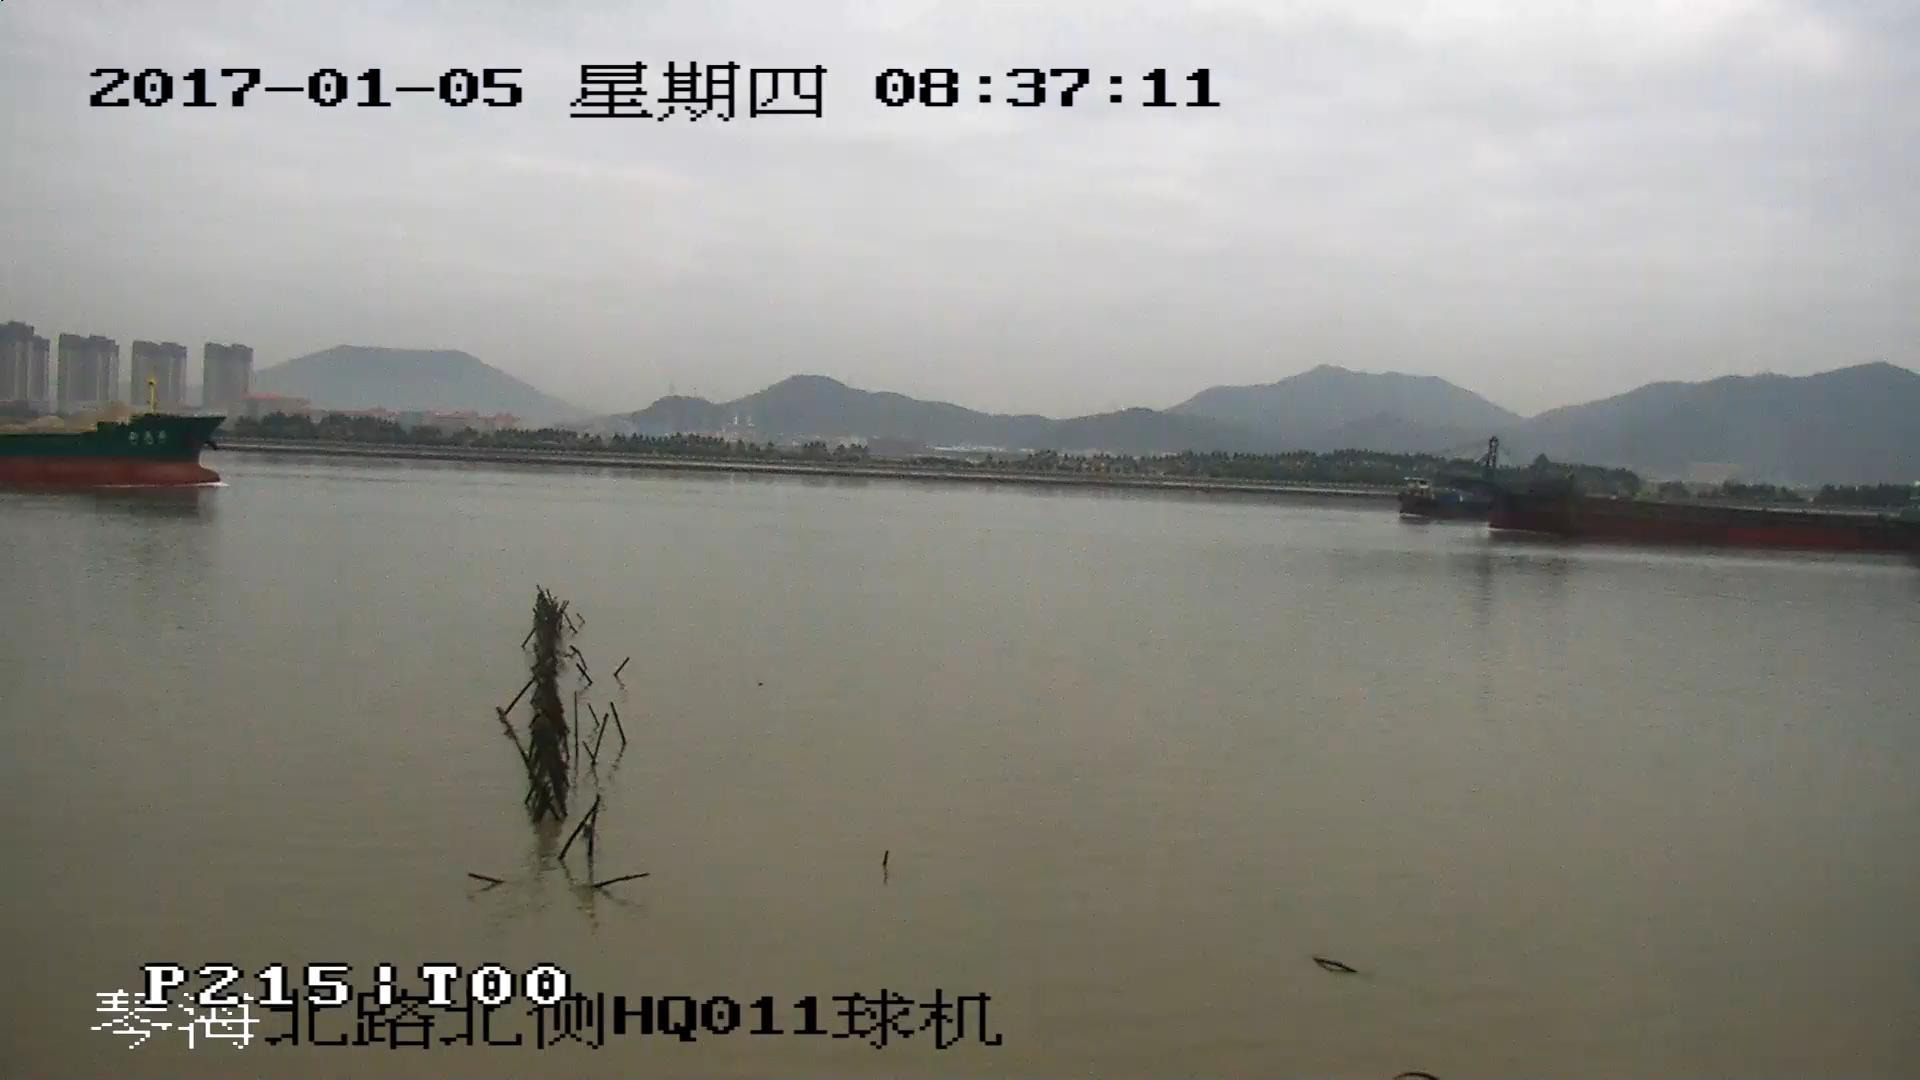Ship: (1403, 440, 1920, 554), (3, 392, 228, 487)
